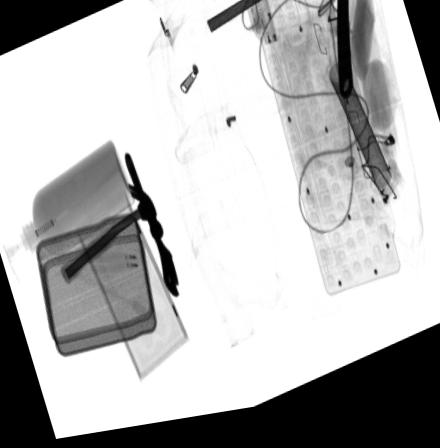Hammer: (58, 186, 163, 285), (203, 0, 276, 39)
Wrench: (122, 155, 178, 302), (336, 0, 353, 114)
